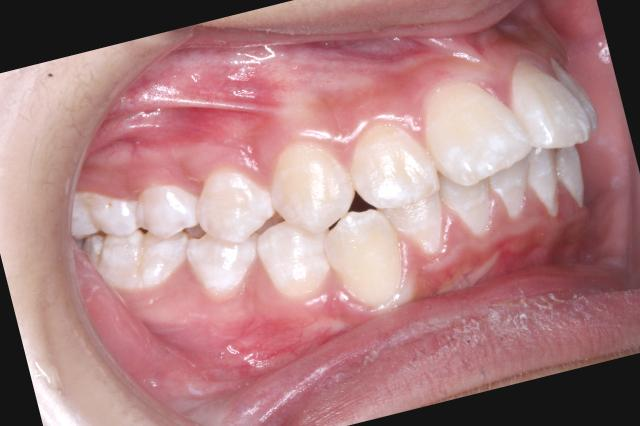canine class III 1/4: (230, 116, 418, 336)
molar class III 1/2: (58, 156, 198, 307)
